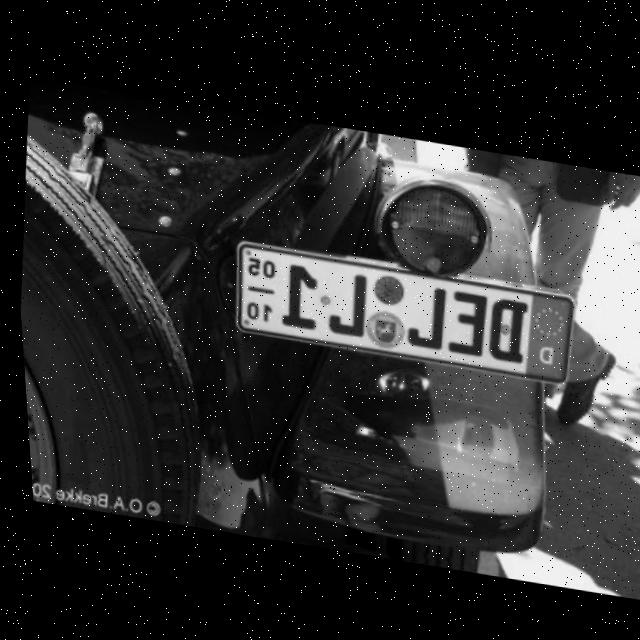license-plates: (235, 241, 573, 383)
